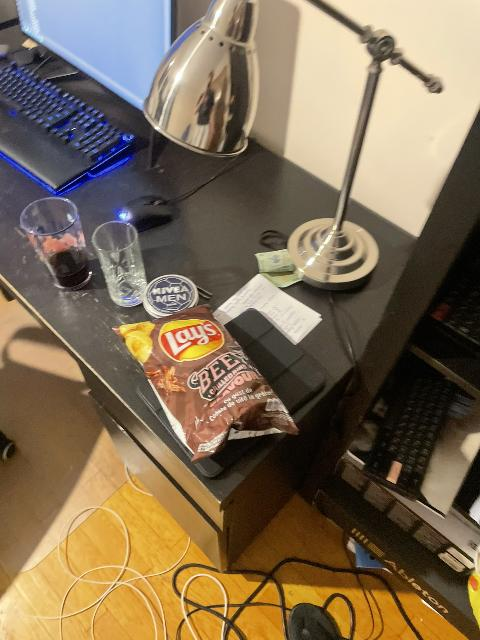Lays Beef Grilled Ribs 125g: (111, 304, 300, 463)
